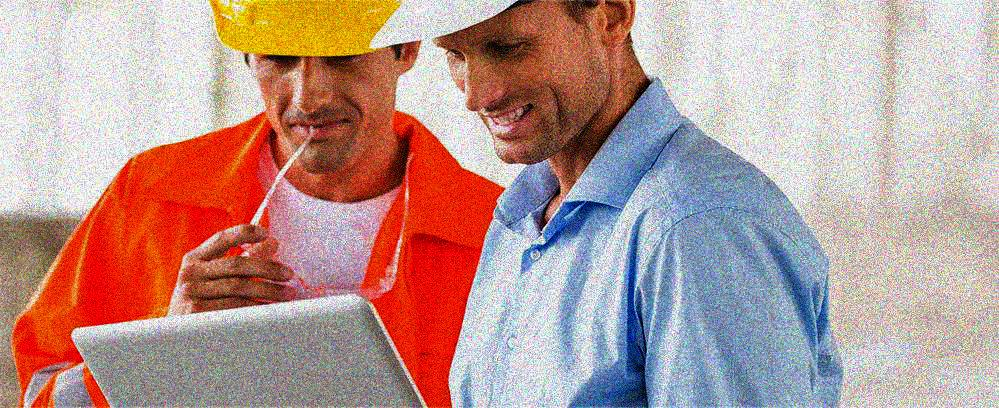helmet: (369, 1, 639, 160), (210, 1, 424, 175)
